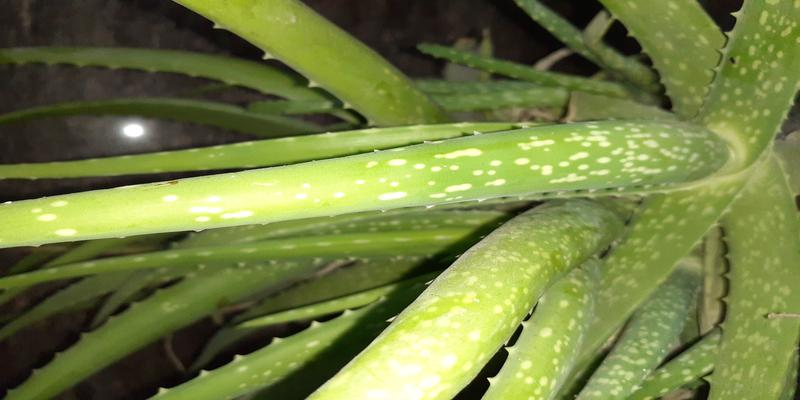Aloevera: (251, 55, 787, 370)
